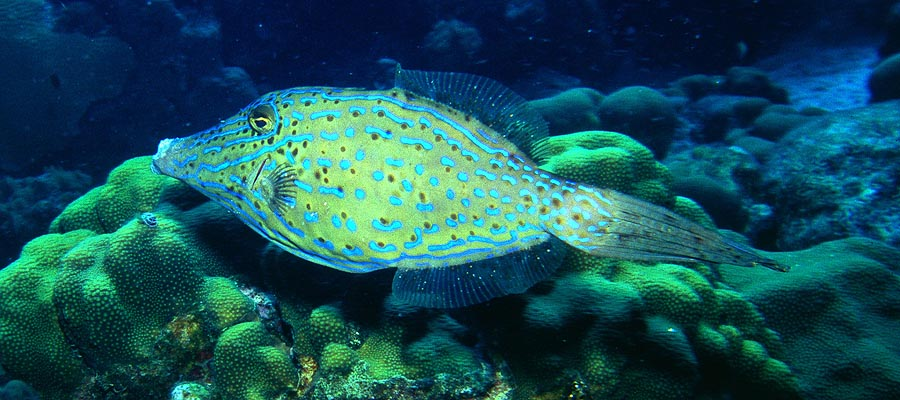Aluterus_scriptus: (141, 64, 796, 309)
